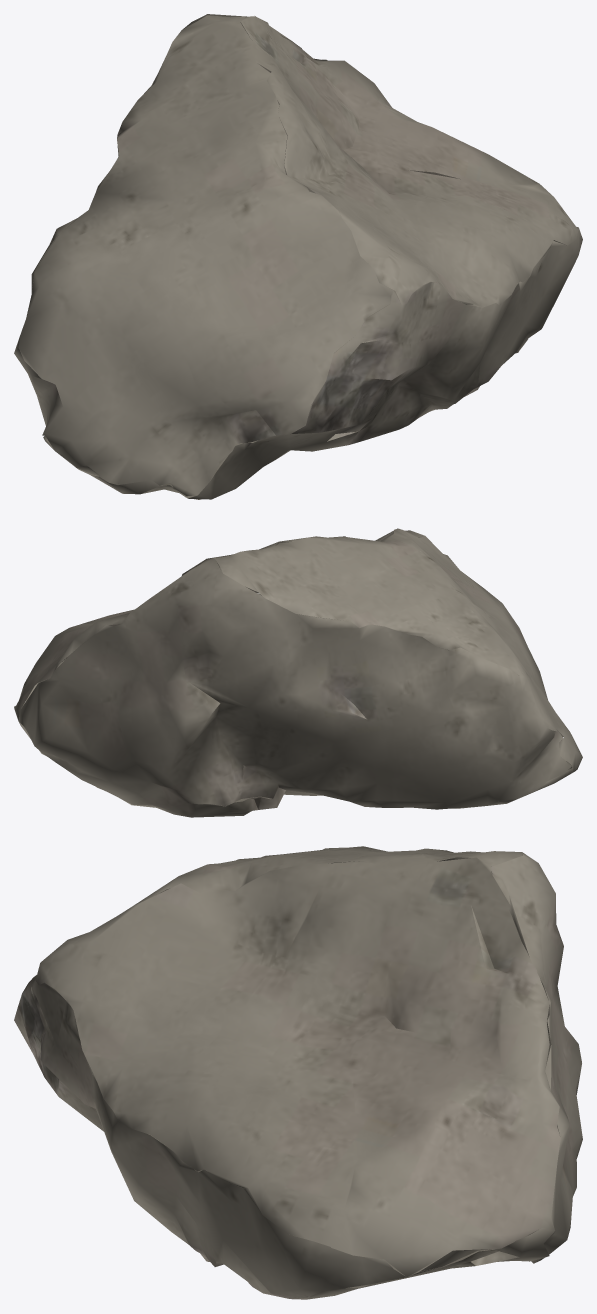
Rendered from rock_b.glb.
3 views of the same model, one above another, from view 1: azimuth 30°, elevation 25°; view 2: azimuth 150°, elevation 25°; view 3: azimuth 270°, elevation 25° (orthographic). The views are drawn at different scales.
Parts seen in each view (by area): view 1: rock_b; view 2: rock_b; view 3: rock_b.
Part boxes in pixels (box(x1,y1,x2,y2)): rock_b: box(14, 14, 582, 499); rock_b: box(14, 528, 582, 817); rock_b: box(14, 846, 582, 1299).
Size of the model in its own units: 1.83 by 0.9475 by 1.4.
Materials: 1 (1 with a texture image).
